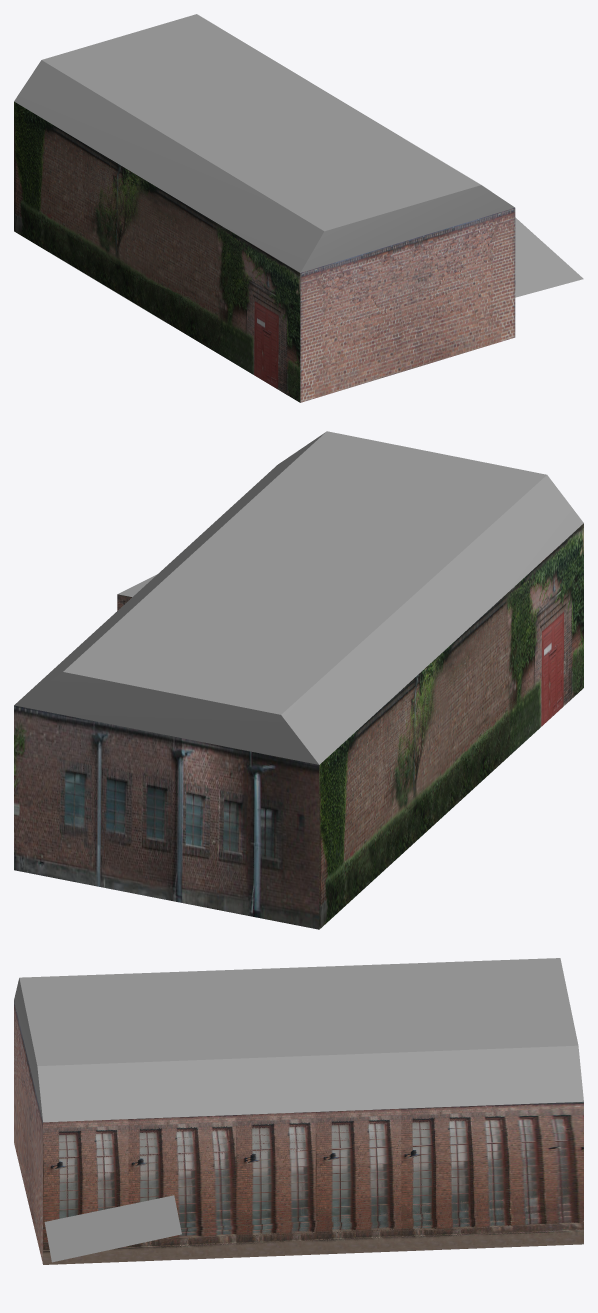
The model's file is Walter-Frenzel-Bau.gltf.
The picture shows the model from 3 angles, top to bottom: view 1: azimuth 30°, elevation 25°; view 2: azimuth 150°, elevation 25°; view 3: azimuth 270°, elevation 25°; orthographic projection. The views are drawn at different scales.
Visible parts, largest first — view 1: Dach.1; view 2: Dach.1; view 3: Dach.1.
Part boxes in pixels (x1,y1,x2,y2): Dach.1: (14,14,583,402); Dach.1: (14,431,583,929); Dach.1: (14,958,583,1264).
Bounding box in the file's own units: 30.12 × 13.85 × 39.83.
Materials: 6 (5 with a texture image).
